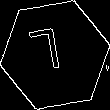L_S: (36, 28, 74, 82)
